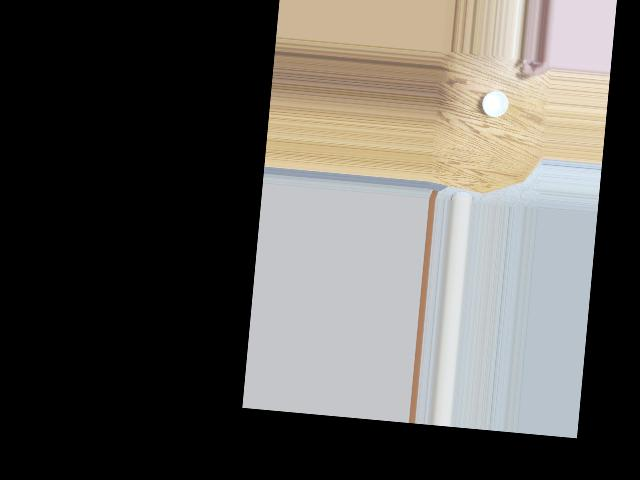cotage: (481, 88, 512, 120)
